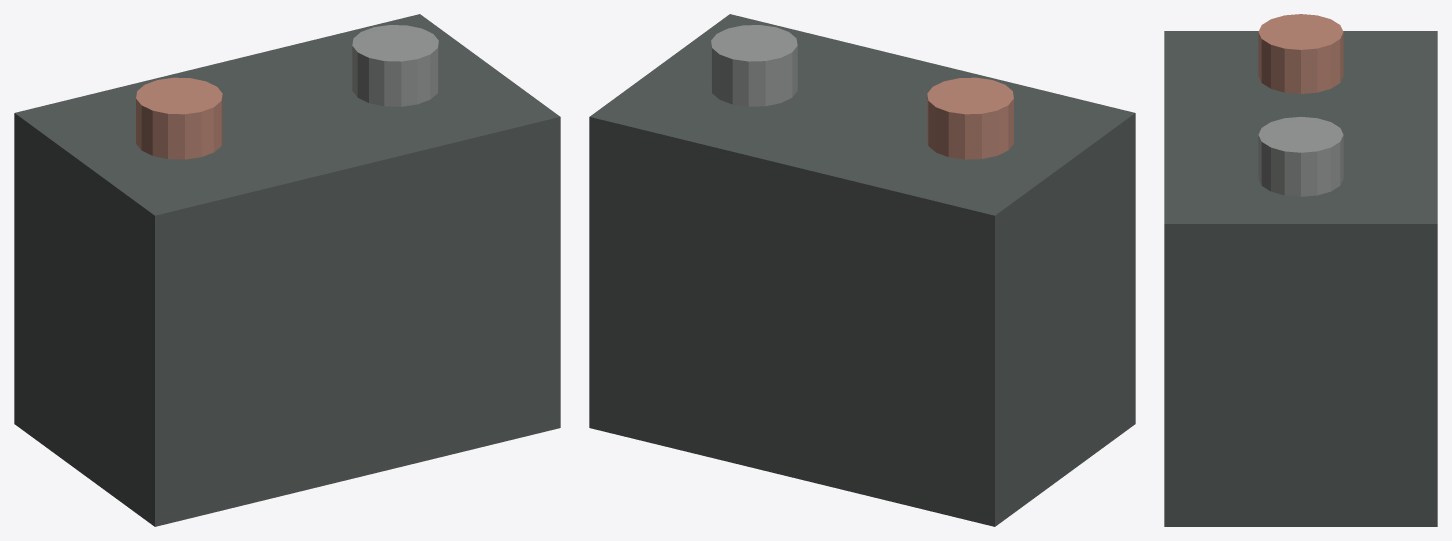
The model's file is loot_battery.glb.
The picture shows the model from 3 angles, left to right: view 1: azimuth 30°, elevation 25°; view 2: azimuth 150°, elevation 25°; view 3: azimuth 270°, elevation 25°; orthographic projection. The views are drawn at different scales.
Visible parts, largest first — view 1: battery_0, terminal_1, terminal_2; view 2: battery_0, terminal_1, terminal_2; view 3: battery_0, terminal_1, terminal_2.
Part boxes in pixels (x1,y1,x2,y2): battery_0: [14, 14, 560, 526]; terminal_1: [136, 77, 222, 159]; terminal_2: [352, 25, 438, 106]; battery_0: [589, 14, 1135, 526]; terminal_1: [927, 77, 1013, 159]; terminal_2: [711, 25, 797, 106]; battery_0: [1164, 31, 1437, 526]; terminal_1: [1258, 14, 1343, 93]; terminal_2: [1258, 117, 1343, 196].
Size of the model in its own units: 0.75 by 0.63 by 0.45.
